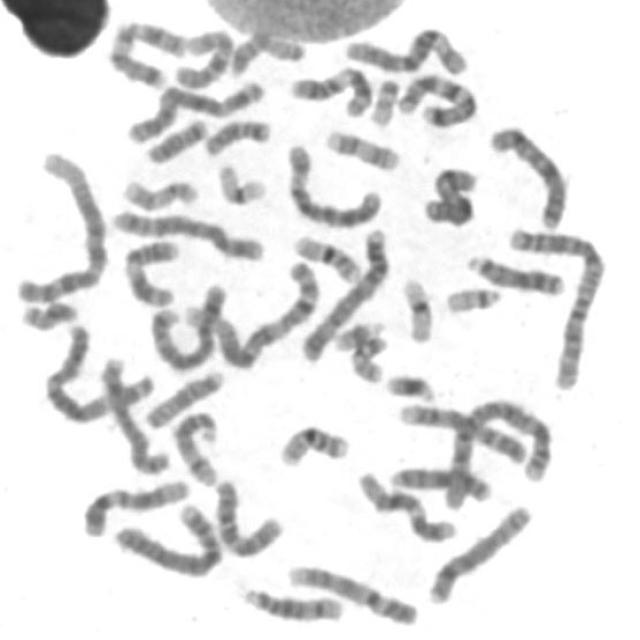A1: (182, 254, 324, 372), (10, 144, 111, 306)
A2: (504, 219, 609, 391), (436, 394, 558, 511)
A3: (39, 317, 160, 426), (120, 73, 266, 146)
B4: (294, 222, 393, 365), (110, 496, 226, 578)
B5: (106, 201, 269, 263), (146, 276, 231, 374)
C10: (208, 471, 288, 560), (175, 28, 240, 91)
C11: (284, 59, 377, 118), (118, 231, 184, 308)
C12: (352, 465, 459, 544), (77, 471, 194, 539)
C6: (280, 136, 388, 229), (340, 21, 474, 77)
C7: (102, 14, 191, 89), (390, 65, 482, 128)
C8: (422, 498, 536, 606), (95, 351, 173, 476)
C9: (282, 556, 422, 628), (394, 396, 533, 468)
D13: (462, 246, 569, 298), (382, 457, 497, 505)
D14: (237, 580, 347, 624), (167, 404, 223, 488)
D15: (139, 364, 229, 431), (223, 26, 309, 76)
E16: (287, 227, 367, 285), (272, 416, 353, 468)
E17: (320, 121, 404, 172), (117, 171, 202, 212)
E18: (142, 111, 212, 167), (198, 111, 274, 159)
F19: (395, 270, 438, 345), (211, 156, 270, 207)
F20: (15, 293, 82, 332), (344, 329, 390, 384)
G21: (329, 312, 388, 353), (380, 366, 440, 404)
G22: (439, 278, 507, 316), (364, 72, 402, 128)
X: (485, 117, 572, 231), (418, 160, 482, 228)
